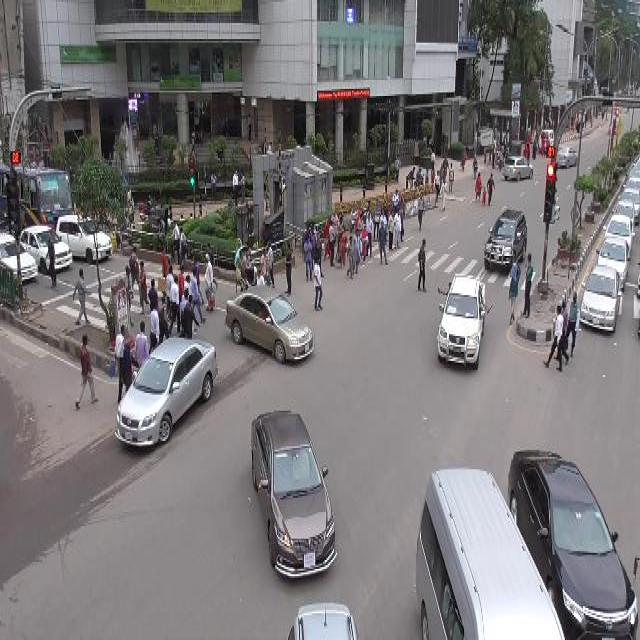car: (502, 444, 639, 636), (245, 405, 343, 583), (113, 330, 220, 450), (223, 281, 316, 371), (577, 260, 624, 336), (481, 204, 528, 270)
motorcycle: (232, 240, 258, 293)
truck: (433, 272, 488, 370)
